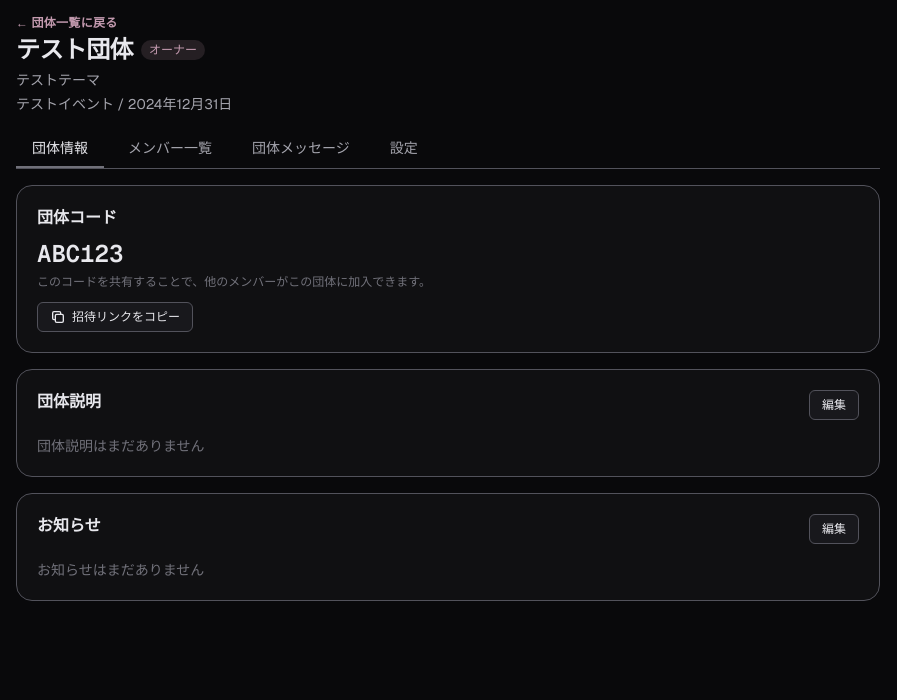
Test: GroupDetailPage › メッセージ機能 › メッセージが空の場合、空のメッセージを表示する
The image size is (897, 700).
Expected: the heading "テスト団体" is shown, [16,34,133,66]
Click the text "団体メッセージ" at (301, 148), box [252,139,350,157]
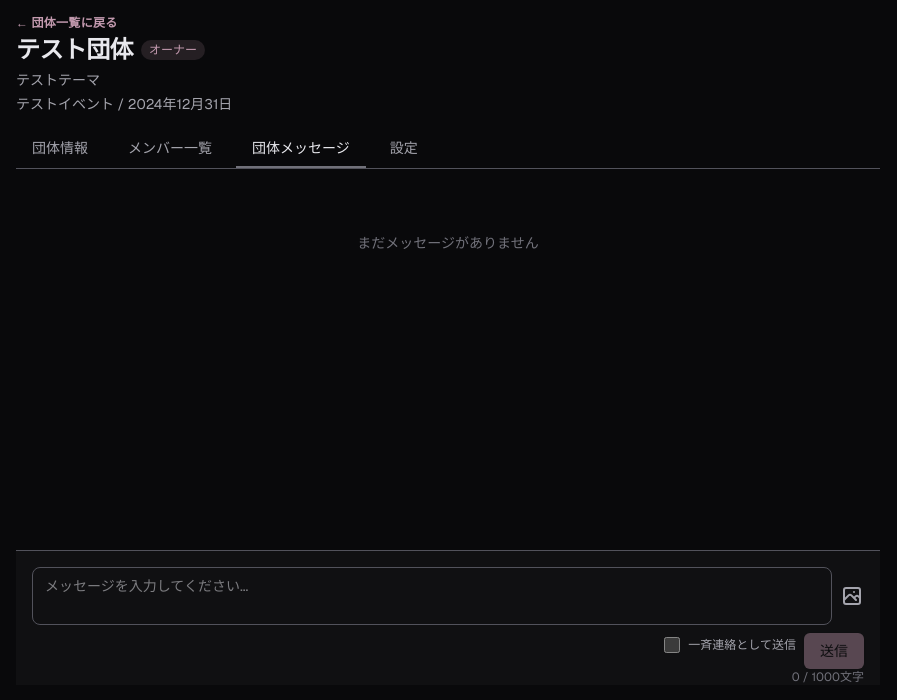
Result: the text "まだメッセージがありません" is shown at [357,234,539,252]
